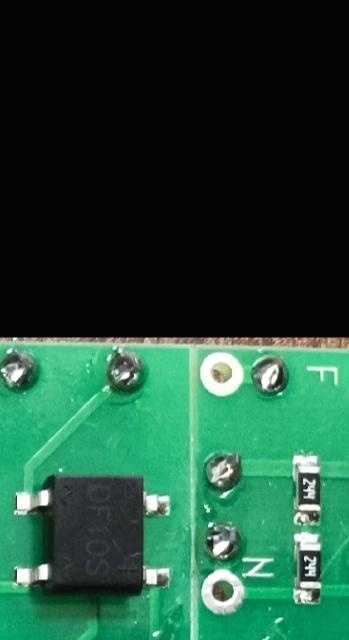chip-resistor: (289, 532, 322, 604), (291, 452, 321, 525)
ic: (10, 473, 170, 596)
